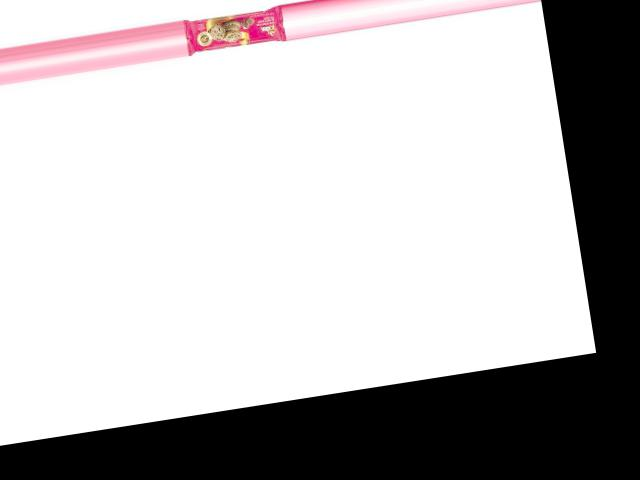chocolate: (184, 1, 287, 54)
